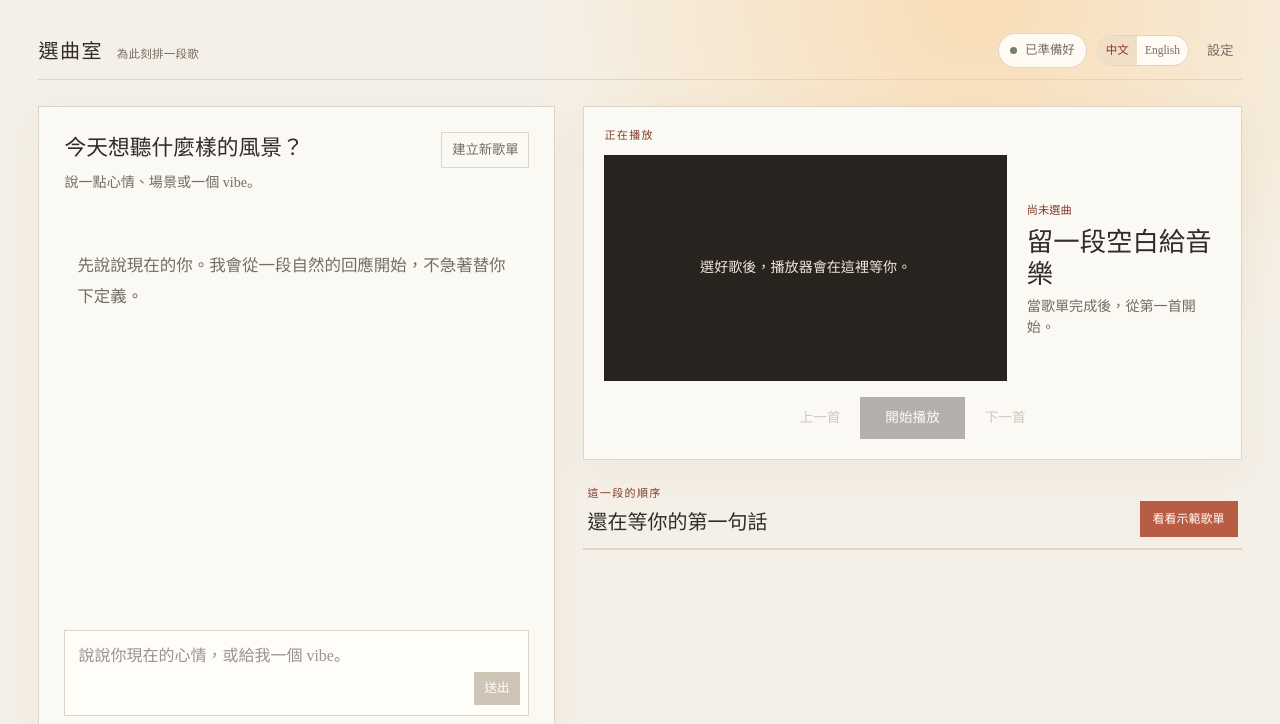
Test case: Pedelec submit flow › preserves visible streamed output before appending the send failure
The width and height of the screenshot is (1280, 724).
Type "  雨後散步  " into the text box with placeholder "說說你現在的心情，或給我一個 vibe。". click: [297, 673]
box: [64,630,530,716]
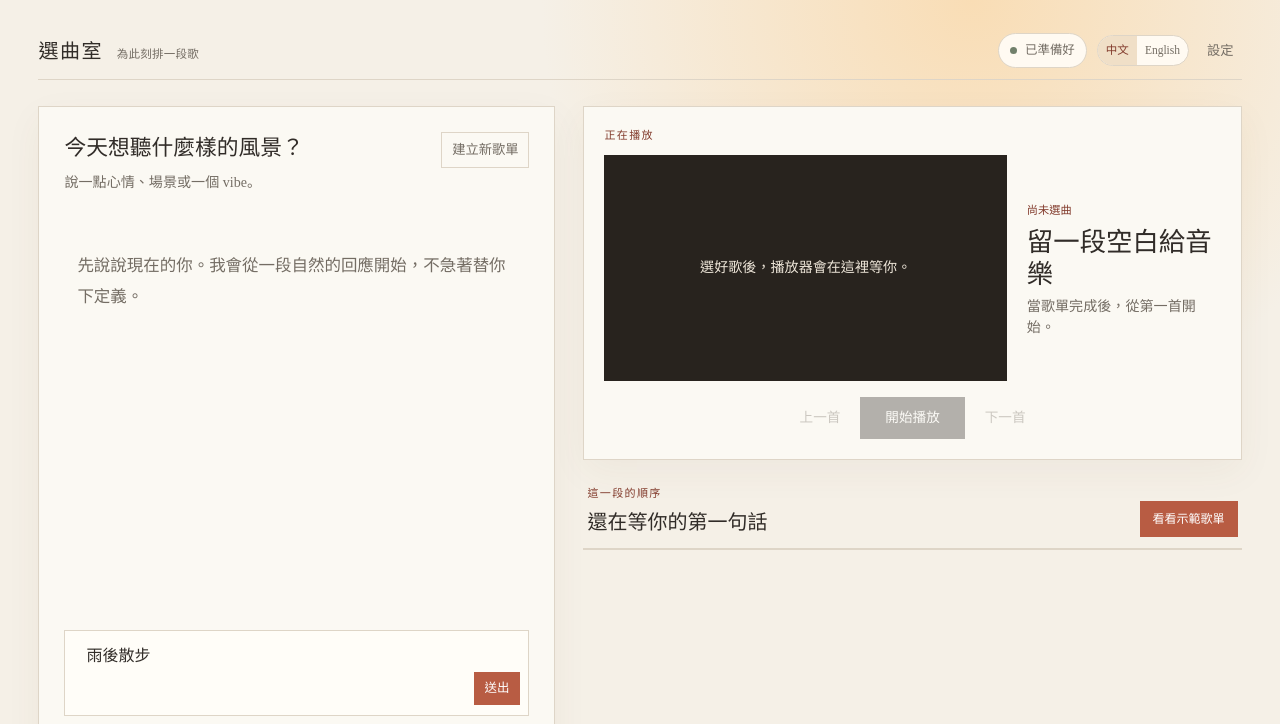
Click the button with aria-label "送出選曲需求". click: [497, 688]
box: [474,672,520,705]
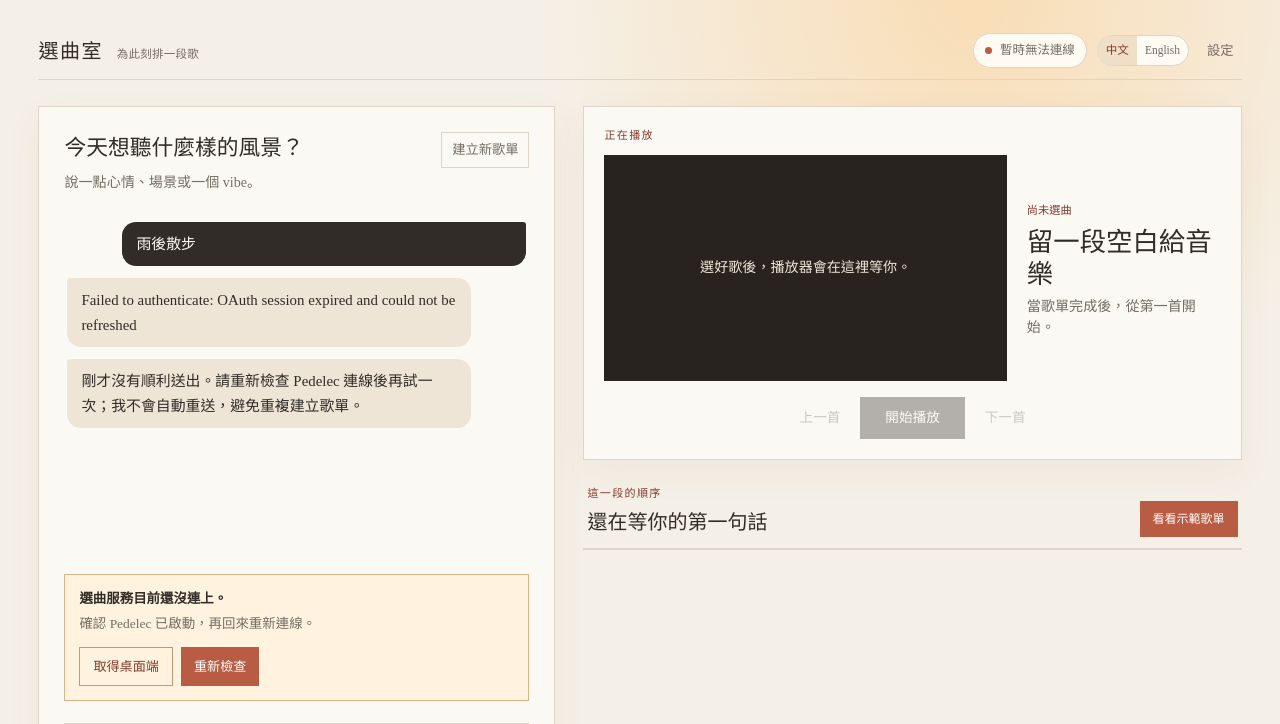
Now the text "Failed to authenticate: OAuth session expired and could not be refreshed" is shown once, box [81,288,457,337]
Now the text "剛才沒有順利送出。請重新檢查 Pedelec 連線後再試一次；我不會自動重送，避免重複建立歌單。" is shown once, box [81,369,457,418]
